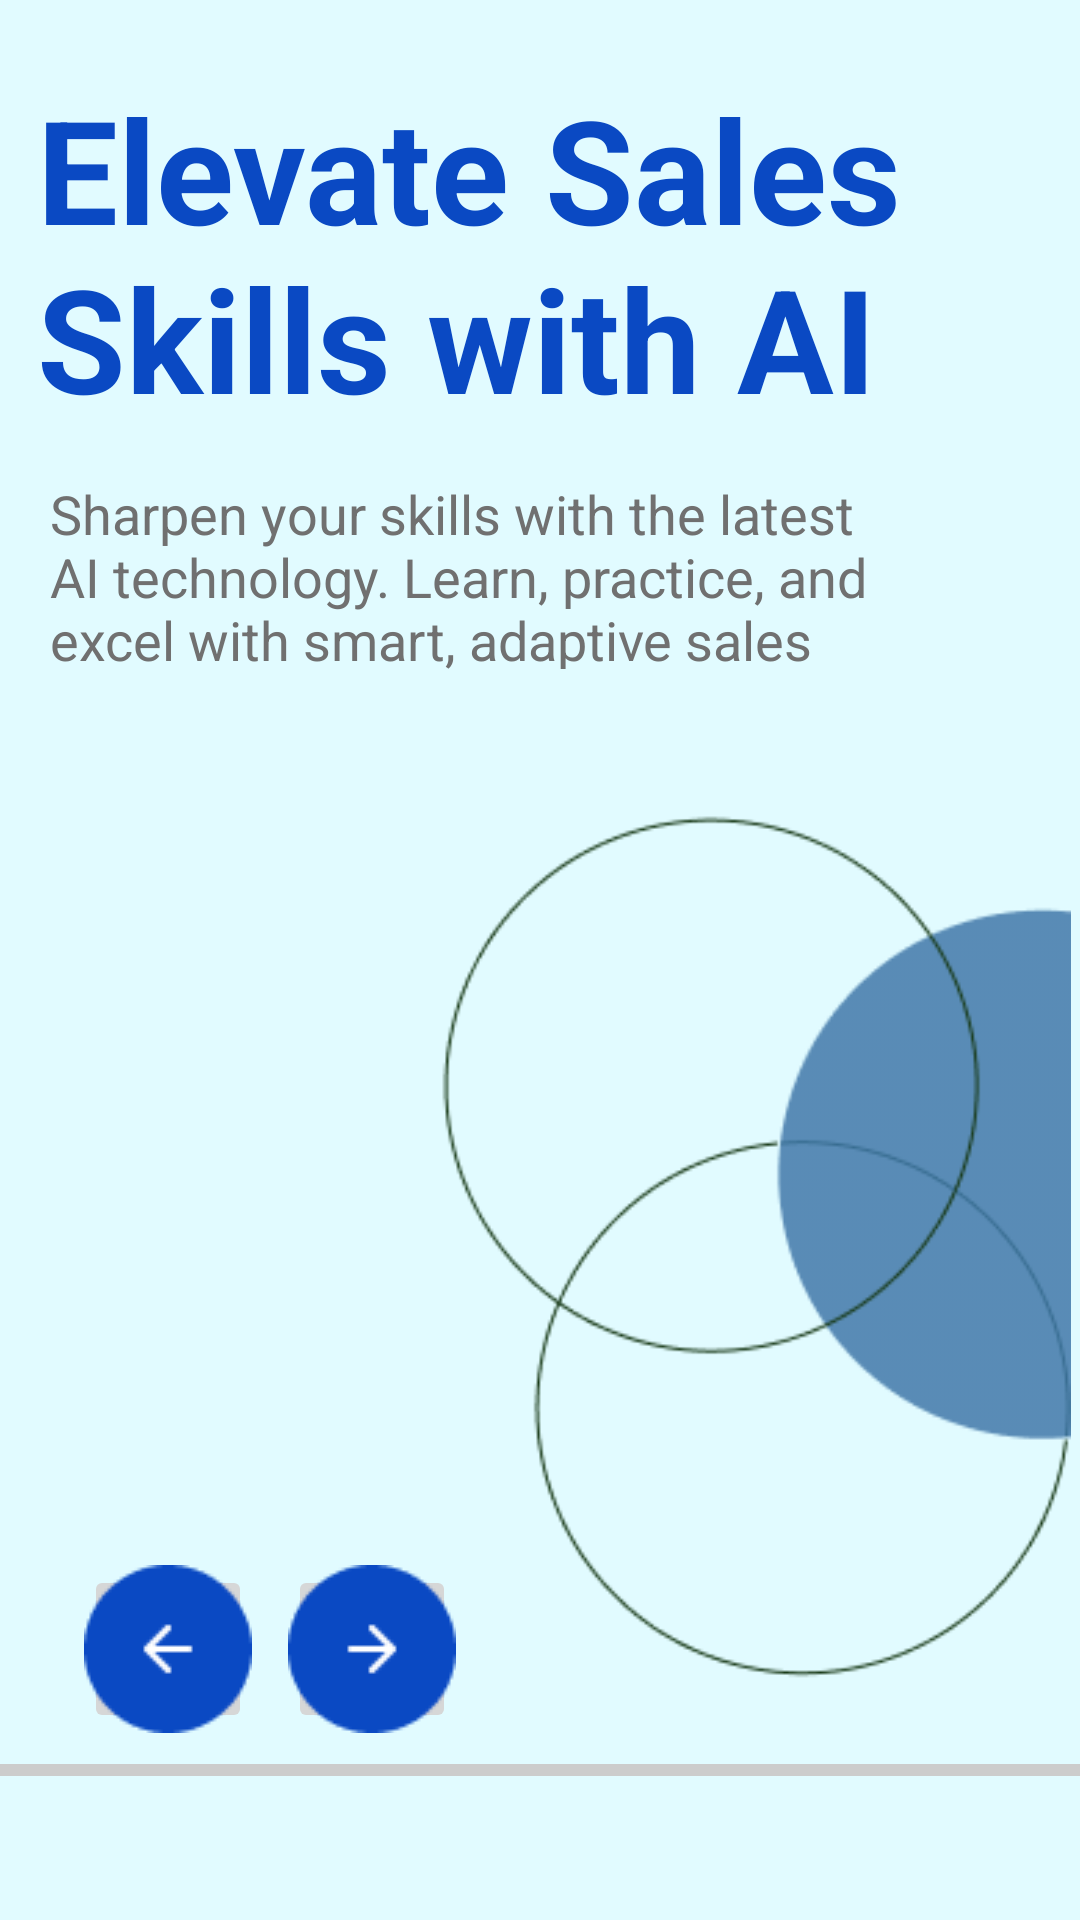

Icons on this 1080×1920 Android screen, each with the point to tap as [x,y]:
back: [168,1649]
next: [372,1649]
